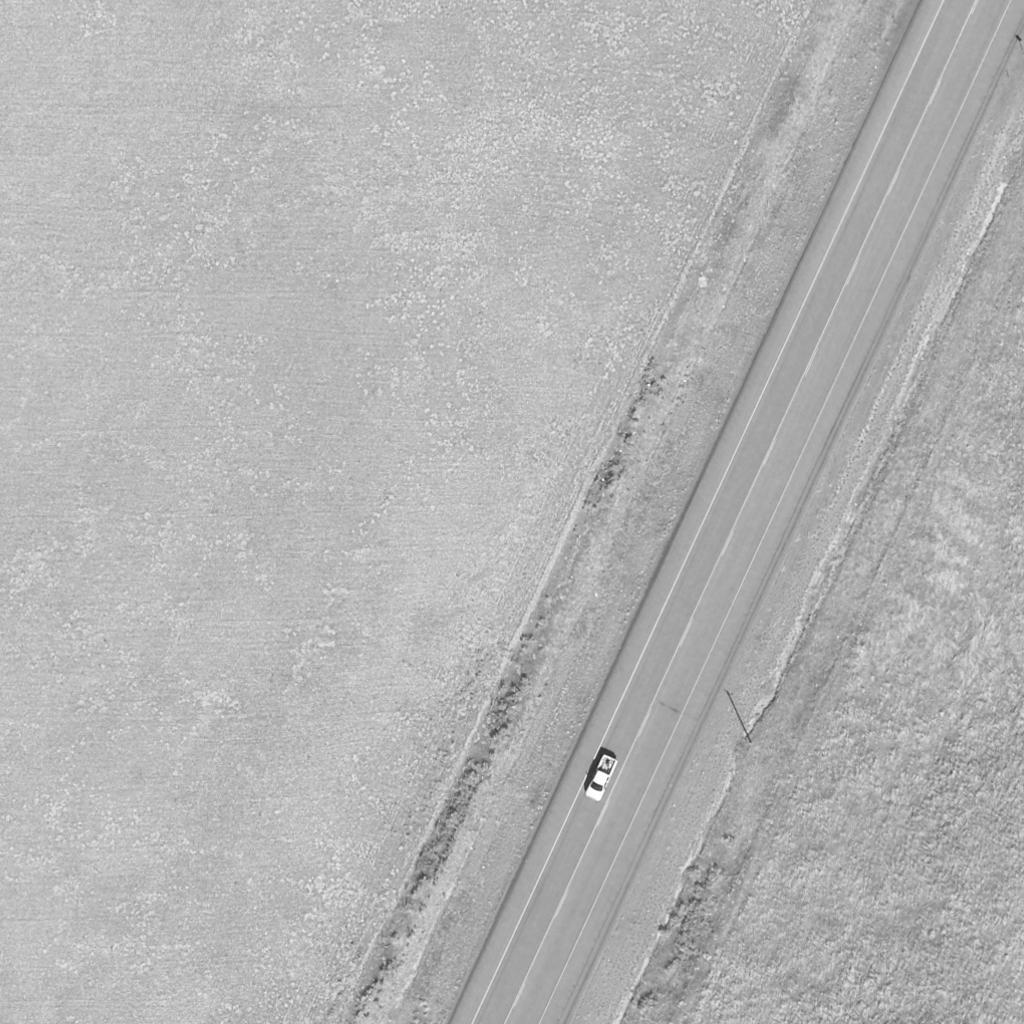vehicle: (584, 755, 620, 801)
